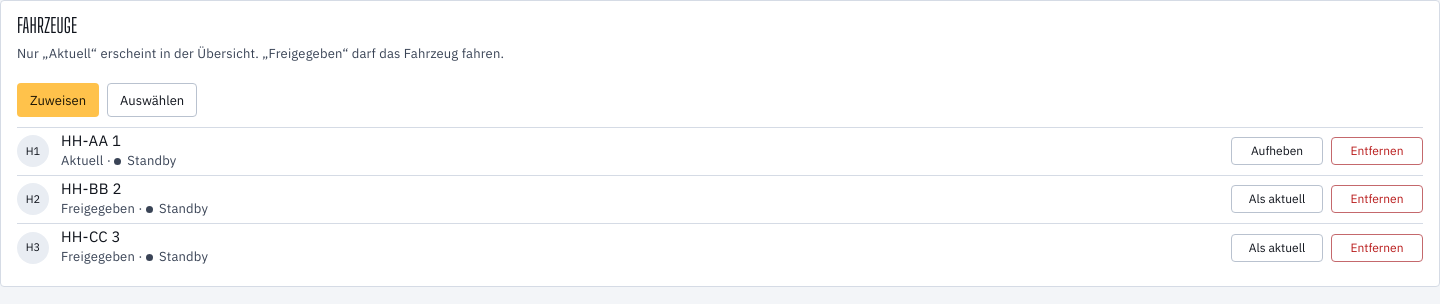
Test: Fahrzeuge panel on the driver detail › swaps row buttons for checkboxes in selection mode
Click the button "Auswählen".
click(152, 100)  # box [107,83,197,117]
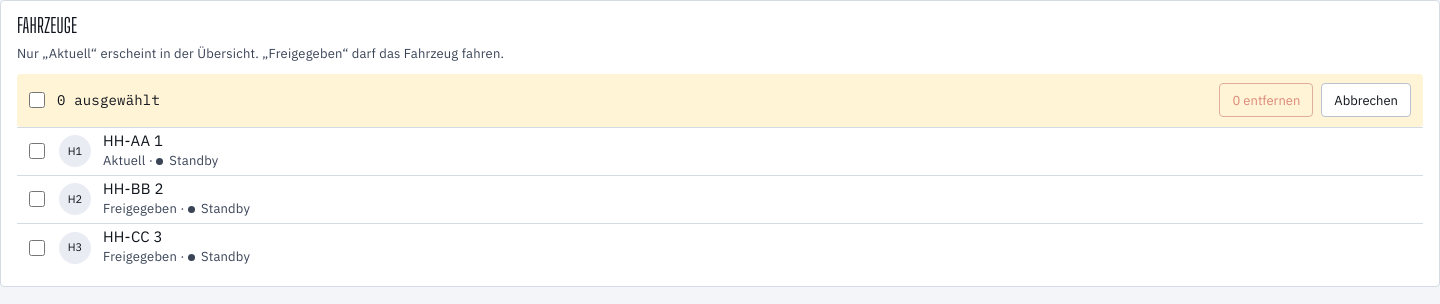
Now the button "Als aktuell" is gone
Now the button "Zuweisen" is gone
Now the number of checkboxes is 4, box [29,92,45,108]; [29,143,45,159]; [29,191,45,207]; [29,240,45,256]
